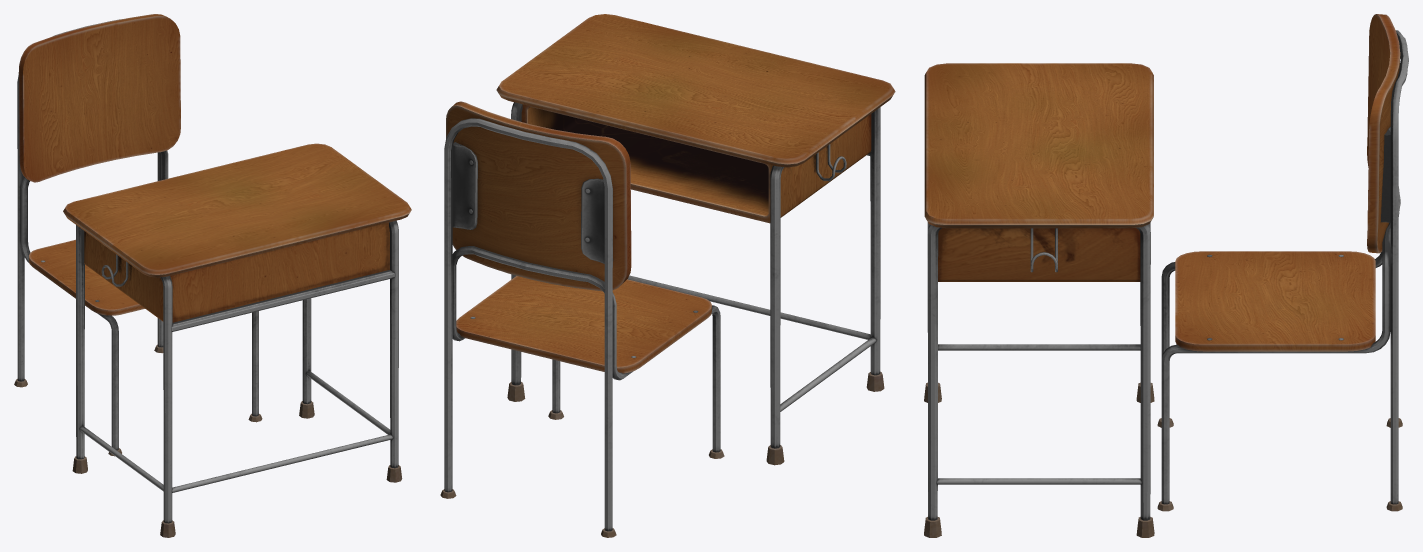
File: chair.glb
3 views of the same model, side by side, from view 1: azimuth 30°, elevation 25°; view 2: azimuth 150°, elevation 25°; view 3: azimuth 270°, elevation 25° (orthographic). The views are drawn at different scales.
Visible parts, largest first — view 1: Cube, Cube.002, Cube.001, Cylinder, Cylinder.005, Cube.003, Cylinder.004, Cylinder.001, Cylinder.002; view 2: Cube, Cube.002, Cube.003, Cube.001, Cylinder.005, Cylinder, Cube.004, Cylinder.001, Cylinder.002; view 3: Cube, Cube.003, Cube.001, Cylinder.005, Cylinder, Cube.002, Cylinder.002, Cube.004.
Part boxes in pixels (bbox=[...]): Cube: bbox=[63, 143, 411, 277]; Cube.002: bbox=[18, 14, 180, 182]; Cube.001: bbox=[84, 222, 389, 322]; Cylinder: bbox=[72, 220, 402, 537]; Cylinder.005: bbox=[14, 19, 262, 456]; Cube.003: bbox=[29, 239, 144, 315]; Cylinder.004: bbox=[171, 270, 394, 331]; Cylinder.001: bbox=[172, 434, 393, 492]; Cylinder.002: bbox=[79, 371, 390, 491]; Cube: bbox=[496, 14, 895, 167]; Cube.002: bbox=[446, 101, 631, 291]; Cube.003: bbox=[456, 276, 711, 373]; Cube.001: bbox=[521, 104, 871, 223]; Cylinder.005: bbox=[440, 118, 724, 537]; Cylinder: bbox=[507, 102, 884, 465]; Cube.004: bbox=[452, 142, 613, 263]; Cylinder.001: bbox=[627, 275, 870, 339]; Cylinder.002: bbox=[780, 337, 876, 411]; Cube: bbox=[924, 63, 1153, 228]; Cube.003: bbox=[1175, 251, 1375, 351]; Cube.001: bbox=[938, 228, 1140, 281]; Cylinder.005: bbox=[1157, 30, 1408, 511]; Cylinder: bbox=[924, 222, 1154, 537]; Cube.002: bbox=[1367, 14, 1400, 253]; Cylinder.002: bbox=[936, 344, 1141, 484]; Cube.004: bbox=[1381, 126, 1390, 222].
Size of the model in its own units: 1.19 by 1.45 by 1.54.
1 material, 1 textured.
